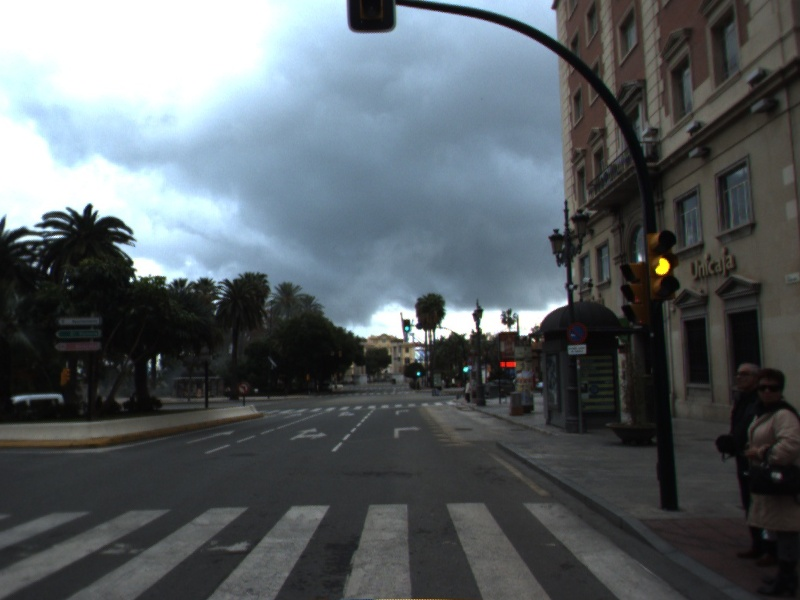RIGHT: (391, 423, 424, 441)
STRAIGHT: (183, 427, 238, 447)
STRAIGHT_RIGHT: (288, 425, 330, 443)
